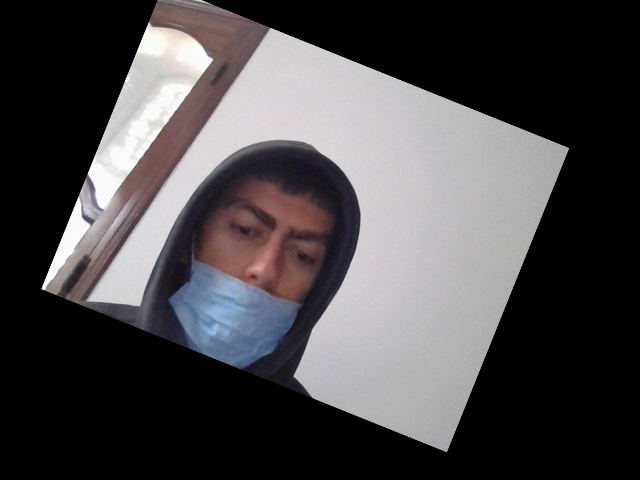mask_weared_incorrect: (183, 174, 329, 370)
